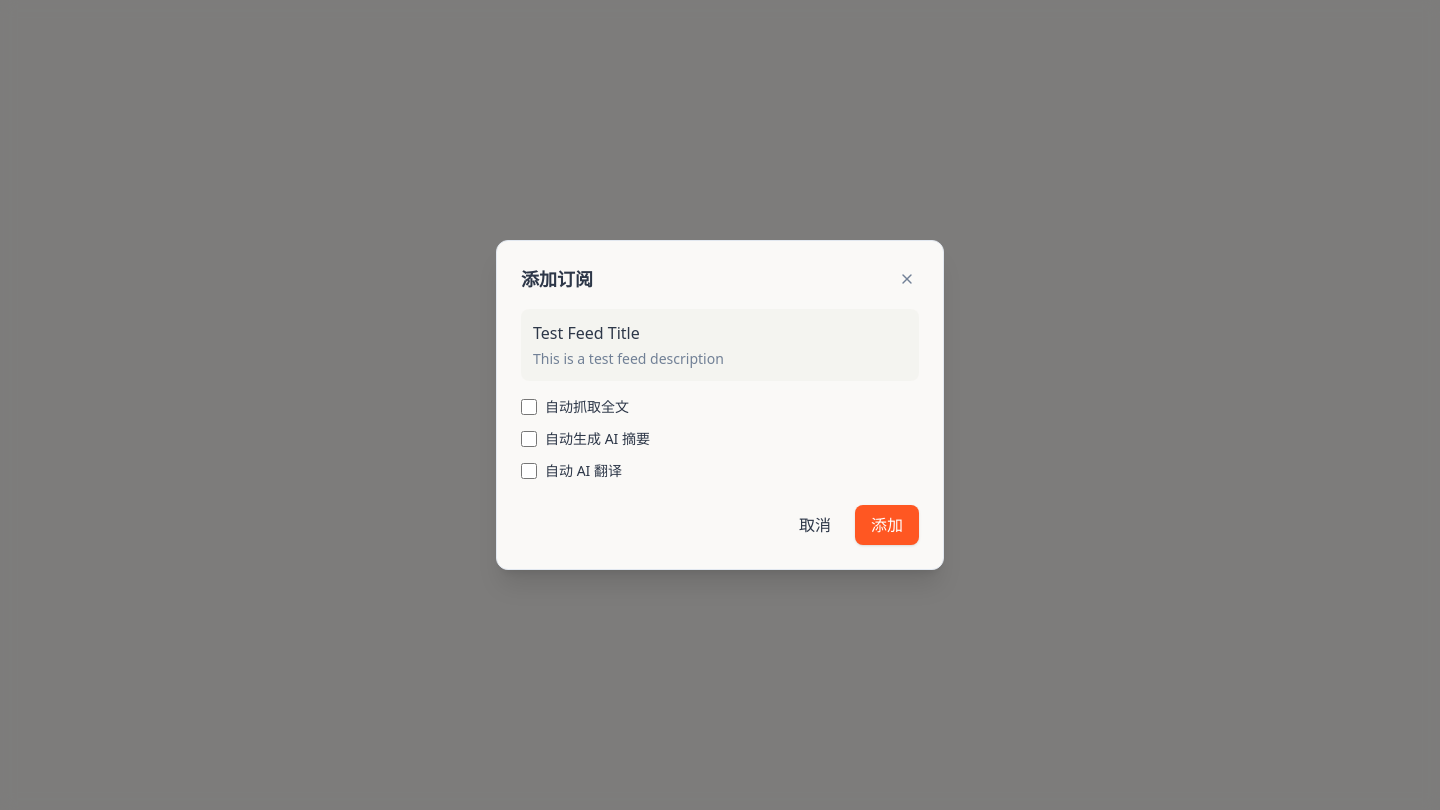
Test: AddFromDiscoverDialog › 复选框交互测试 › toggles full content checkbox
expect the checkbox labelled "自动抓取全文" is not checked: met, box [521,399,537,415]
Click the text "自动抓取全文" at (587, 407), box [545,397,629,417]
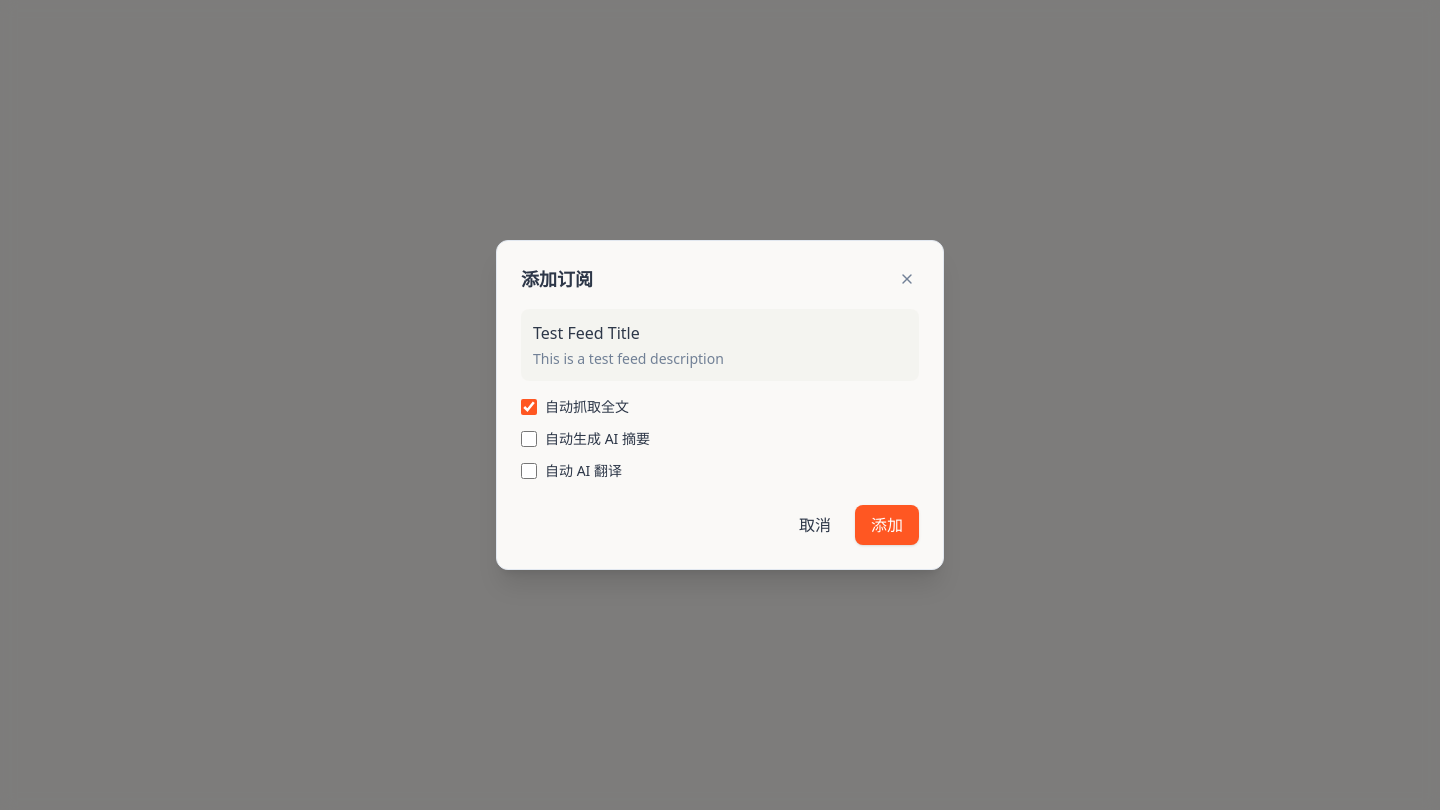
expect the checkbox labelled "自动抓取全文" is checked: met, box [521,399,537,415]
